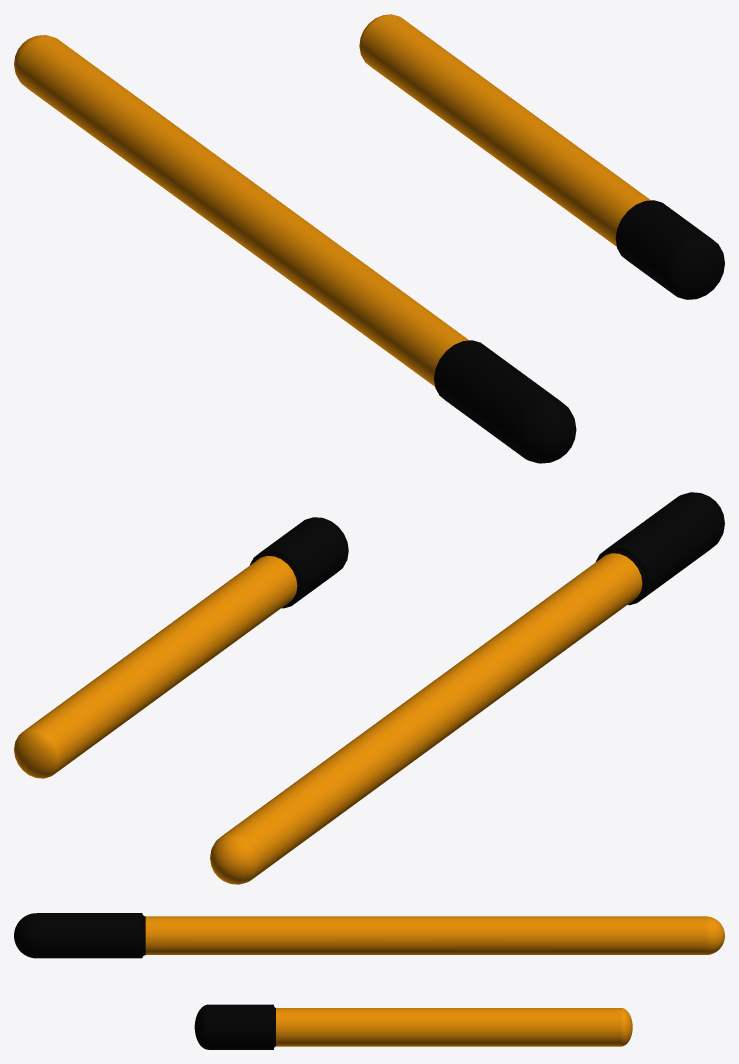
The model's file is Playdate Darts.fbx.
3 renders of one model, top to bottom at view 1: azimuth 30°, elevation 25°; view 2: azimuth 150°, elevation 25°; view 3: azimuth 270°, elevation 25°, orthographic. The views are drawn at different scales.
Visible parts, largest first — view 1: polySurface18, polySurface19; view 2: polySurface18, polySurface19; view 3: polySurface18, polySurface19.
Boxes of the visible parts, x1,y1,x2,y2 form: polySurface18: [14, 35, 576, 463]; polySurface19: [359, 14, 724, 299]; polySurface18: [210, 492, 724, 884]; polySurface19: [14, 517, 348, 778]; polySurface18: [14, 913, 724, 958]; polySurface19: [194, 1004, 632, 1049].
Size of the model in its own units: 8.83 by 1.54 by 23.95.
